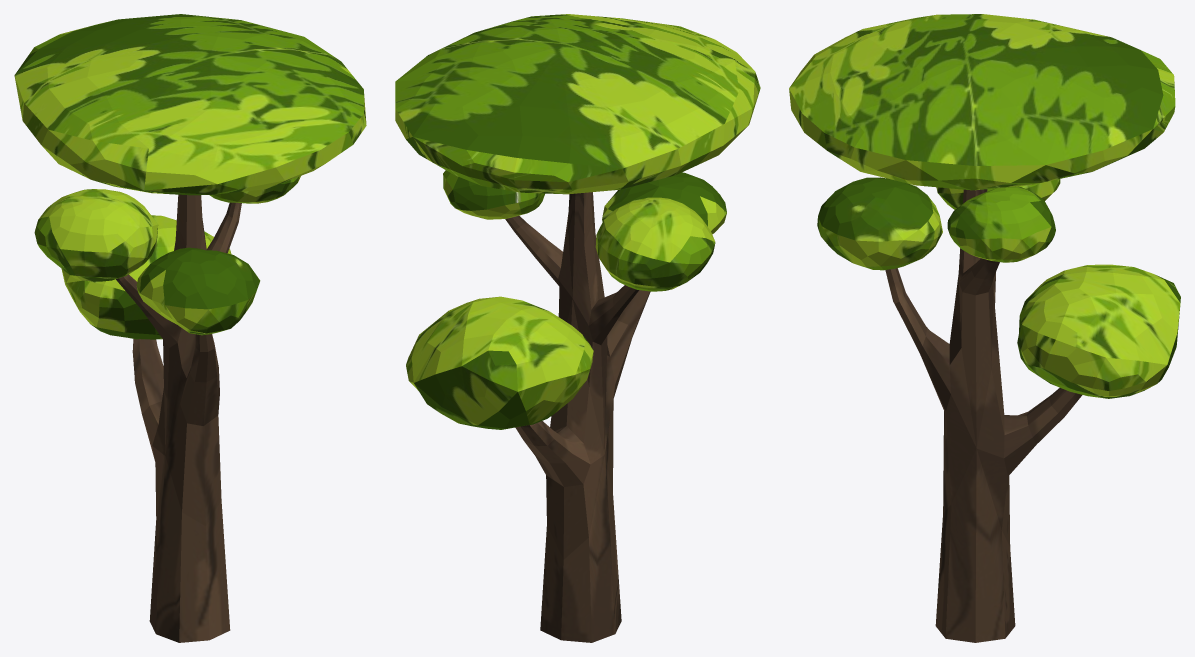
Rendered from tree1.obj.
3 views of the same model, side by side, from view 1: azimuth 30°, elevation 25°; view 2: azimuth 150°, elevation 25°; view 3: azimuth 270°, elevation 25° (orthographic).
Visible parts, largest first — view 1: Plane; view 2: Plane; view 3: Plane.
Boxes of the visible parts, x1,y1,x2,y2 form: Plane: (14, 14, 366, 642); Plane: (395, 14, 760, 642); Plane: (789, 14, 1180, 642).
Bounding box in the file's own units: 2.44 × 4.43 × 2.73.
1 material, 1 textured.
